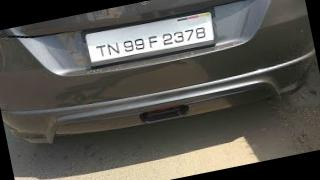plate: (73, 3, 231, 73)
